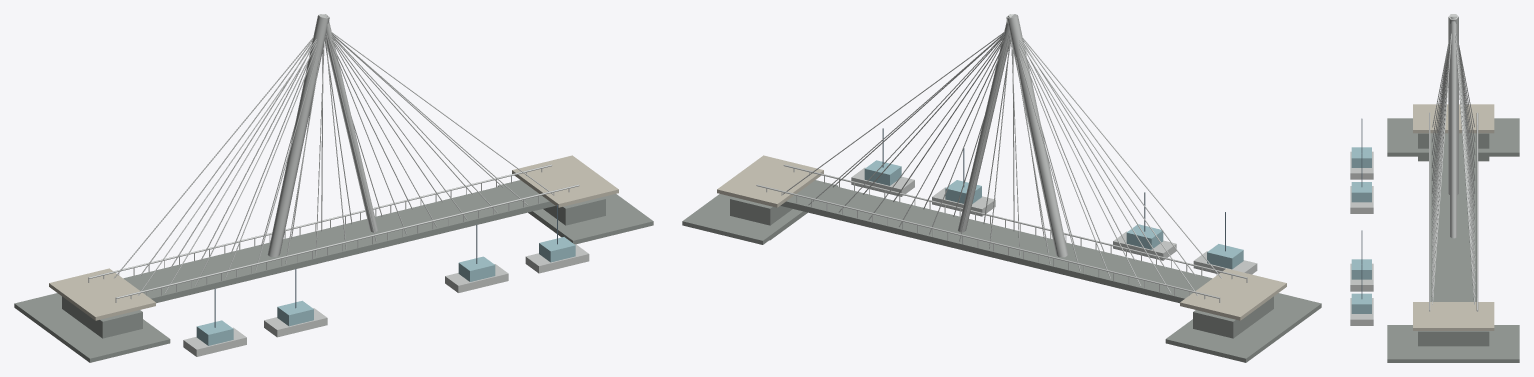
File: lovers.glb
The picture shows the model from 3 angles, left to right: view 1: azimuth 30°, elevation 25°; view 2: azimuth 150°, elevation 25°; view 3: azimuth 270°, elevation 25°; orthographic projection. The views are drawn at different scales.
Visible parts, largest first — view 1: lovers; view 2: lovers; view 3: lovers.
Boxes of the visible parts, x1,y1,x2,y2 form: lovers: [14, 14, 653, 362]; lovers: [682, 14, 1321, 362]; lovers: [1350, 14, 1519, 362].
Size of the model in its own units: 56 by 25.1 by 16.65.
